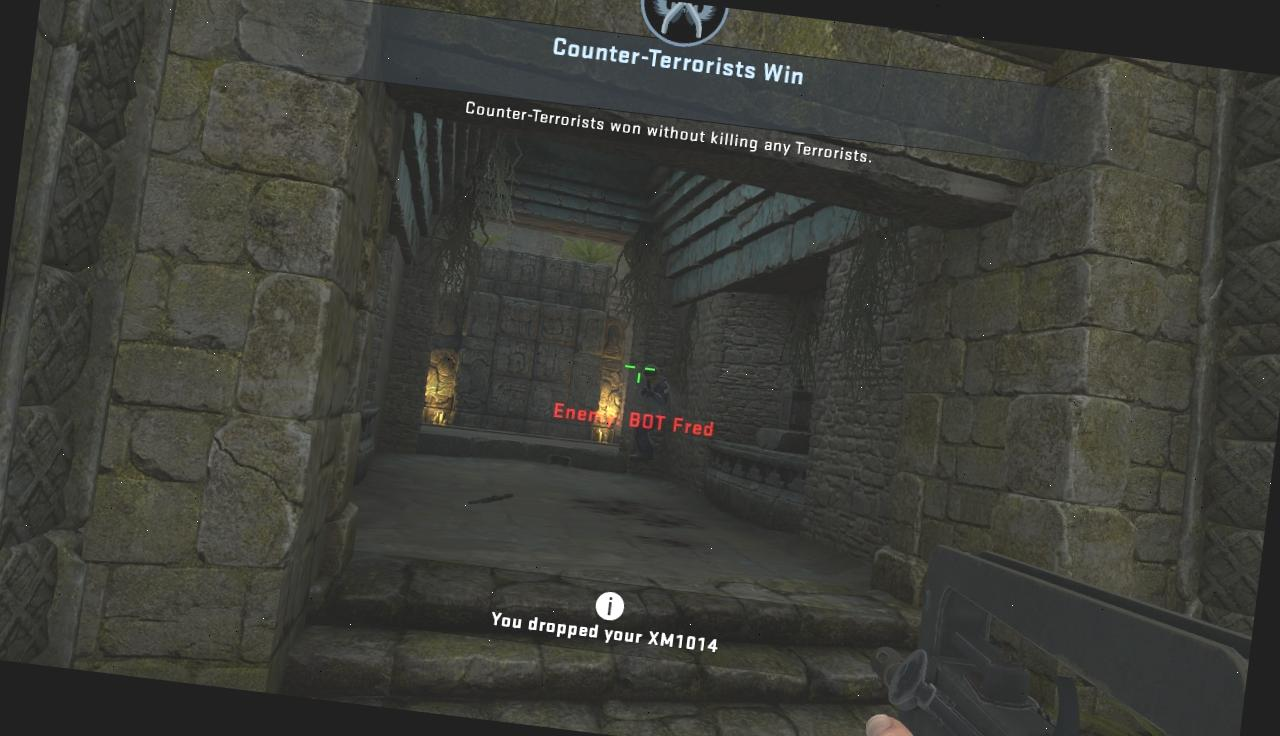ct: (630, 362, 674, 467)
cthead: (642, 364, 659, 384)
rifle: (866, 563, 1255, 736)
